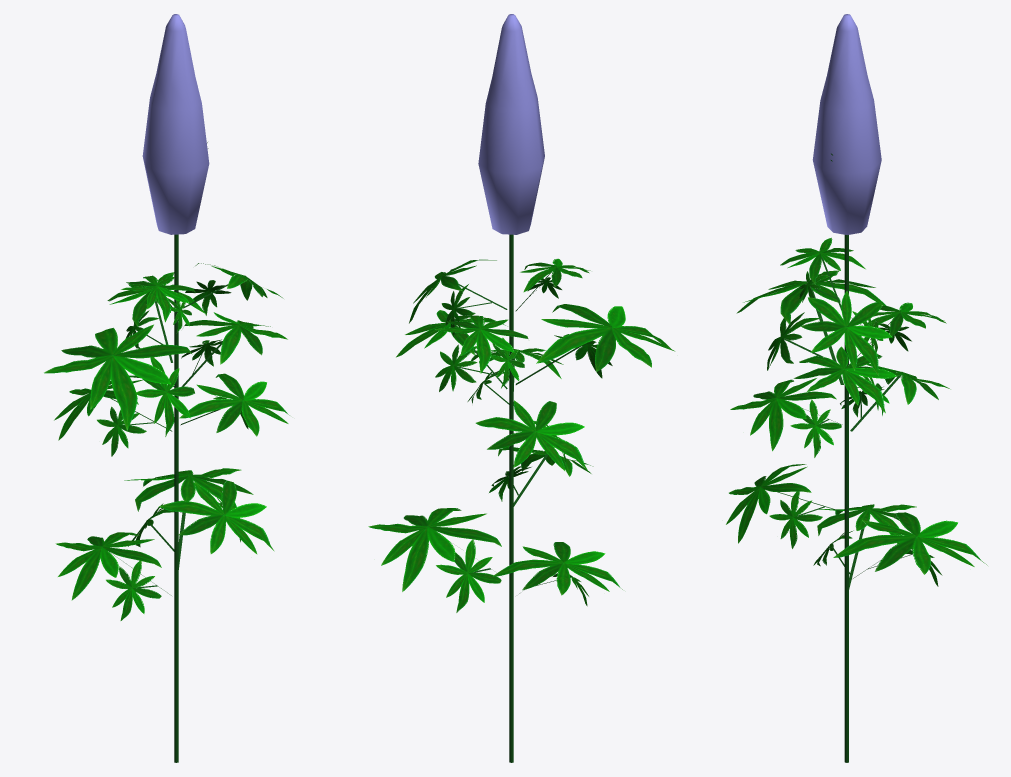
The model's file is lupine 1.FBX.
The picture shows the model from 3 angles, left to right: view 1: azimuth 30°, elevation 25°; view 2: azimuth 150°, elevation 25°; view 3: azimuth 270°, elevation 25°; orthographic projection.
Visible parts, largest first — view 1: Cylinder017; view 2: Cylinder017; view 3: Cylinder017.
Boxes of the visible parts, x1=… form: Cylinder017: x1=44, y1=14, x2=289, y2=762; Cylinder017: x1=368, y1=14, x2=675, y2=762; Cylinder017: x1=726, y1=14, x2=987, y2=762.
Bounding box in the file's own units: 2.73 × 6.69 × 2.36.
